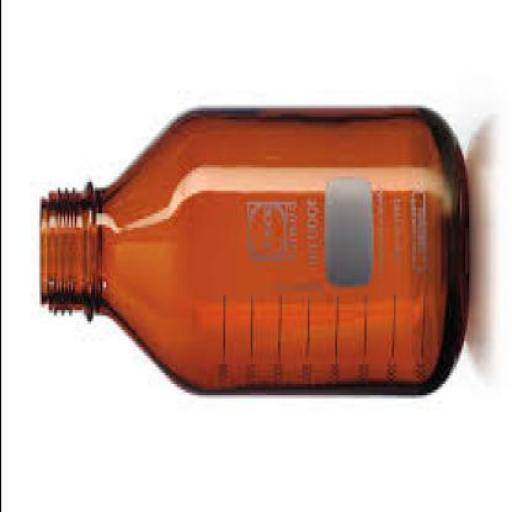glass: (36, 102, 465, 395)
